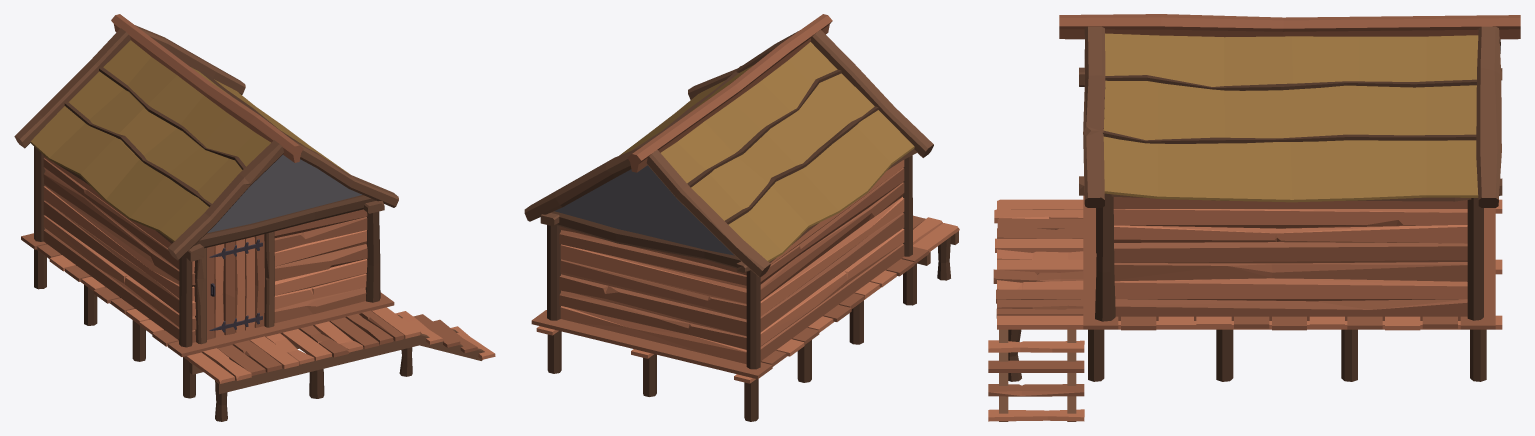
The model's file is Building_3_Wall_OFF.fbx.
3 renders of one model, left to right at view 1: azimuth 30°, elevation 25°; view 2: azimuth 150°, elevation 25°; view 3: azimuth 270°, elevation 25°, orthographic. The views are drawn at different scales.
Visible parts, largest first — view 1: Building_3_Wall_OFF; view 2: Building_3_Wall_OFF; view 3: Building_3_Wall_OFF.
Boxes of the visible parts, box(x1,y1,x2,y2) form: Building_3_Wall_OFF: box(14, 14, 495, 421); Building_3_Wall_OFF: box(524, 14, 959, 421); Building_3_Wall_OFF: box(988, 14, 1520, 421).
Bounding box in the file's own units: 6.4 × 5.14 × 8.11.
